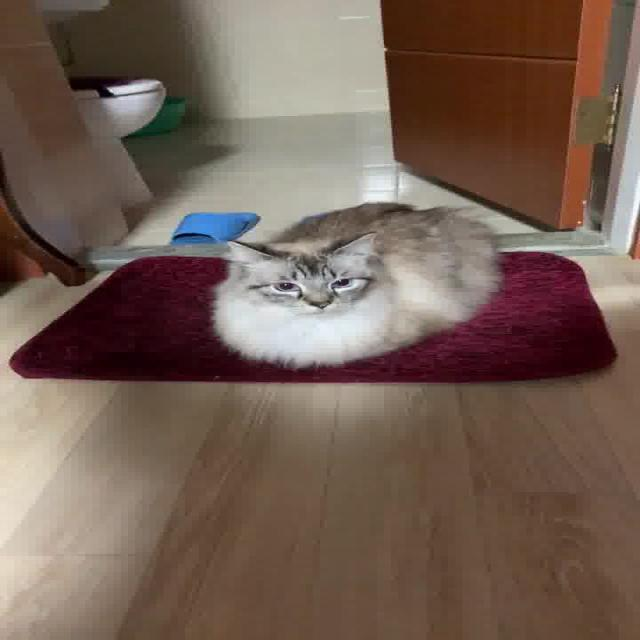cat: (192, 195, 514, 373)
